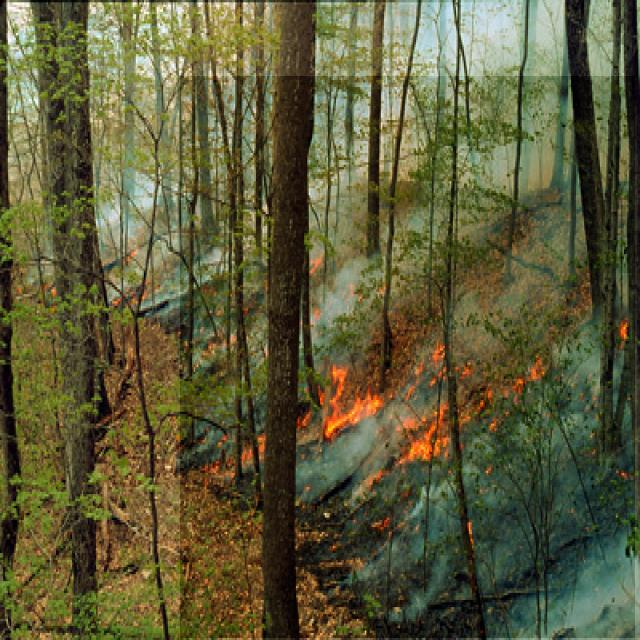Fire: (298, 353, 392, 437), (399, 398, 470, 476)
Smoke: (180, 76, 635, 638)
